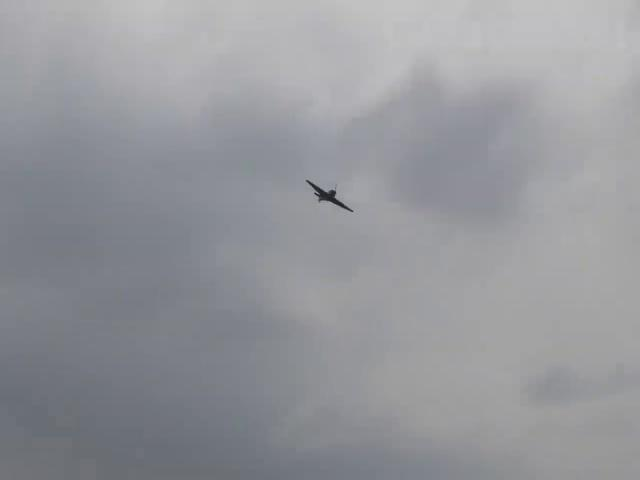Airplane: (306, 179, 353, 212)
